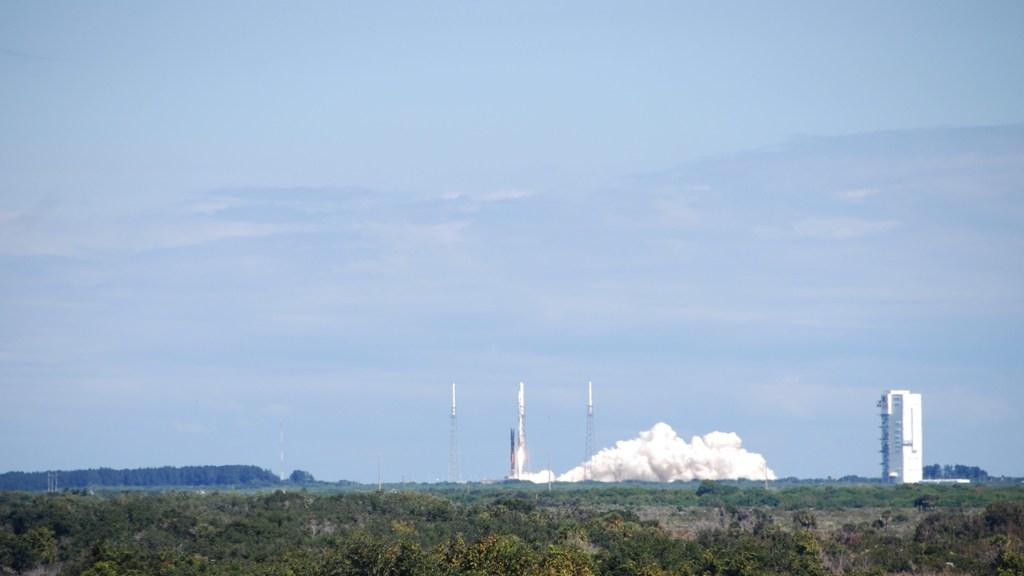Missile: (449, 381, 459, 418), (586, 373, 591, 415)
